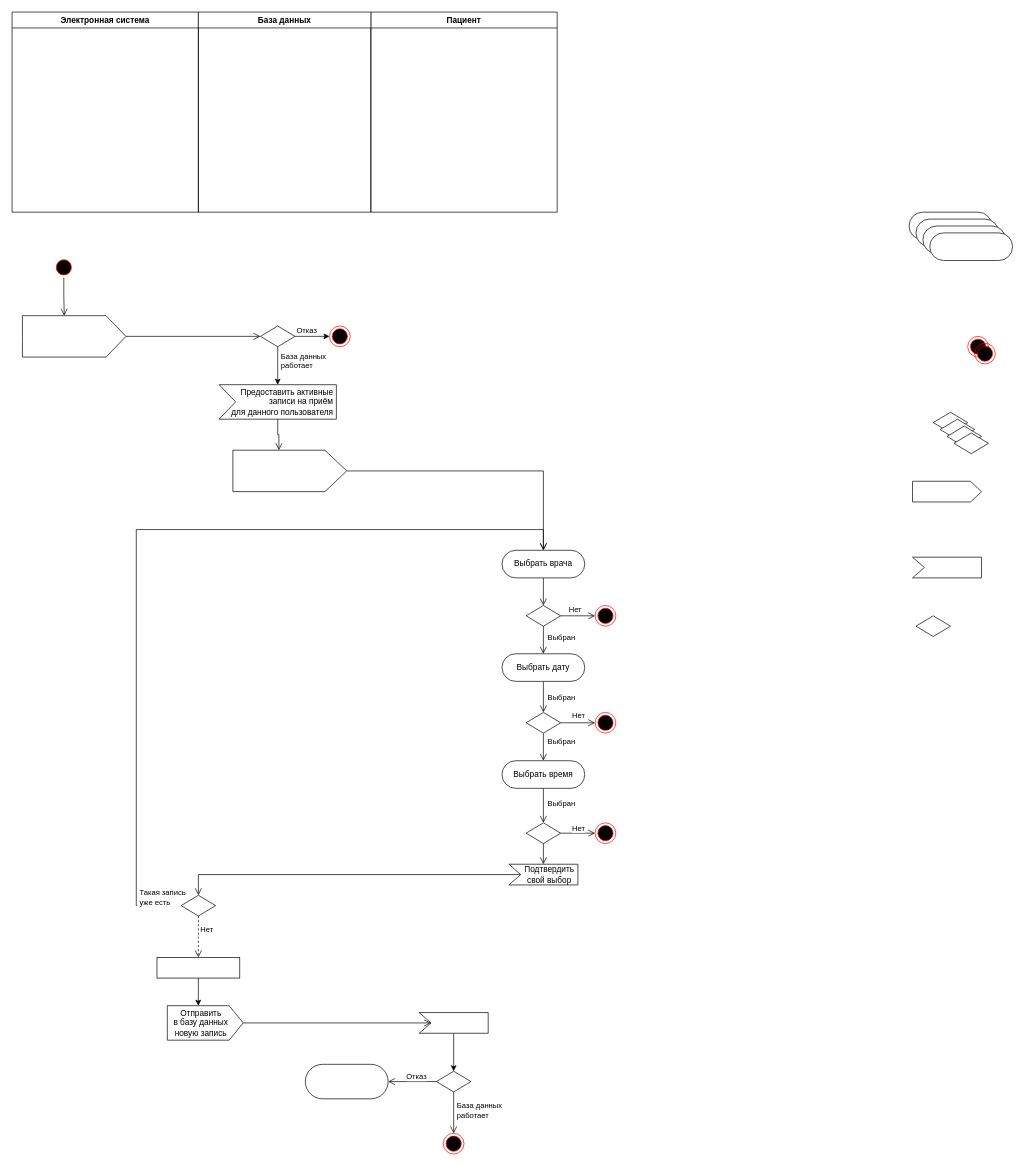
Image size: 1025x1166. Some labels were removed from this diagram. Each missing label, with the box of its shape:
Добавить новую запись: (418, 1012, 488, 1033)
Запись на приём: (156, 957, 240, 978)
Запросить активные записи на приём для данного пользователя: (22, 315, 126, 357)
Предоставить пользователю интерфейс для выбора врача, даты и времени: (232, 450, 347, 492)
Уведомить пользователя об ошибке: (305, 1064, 388, 1099)
